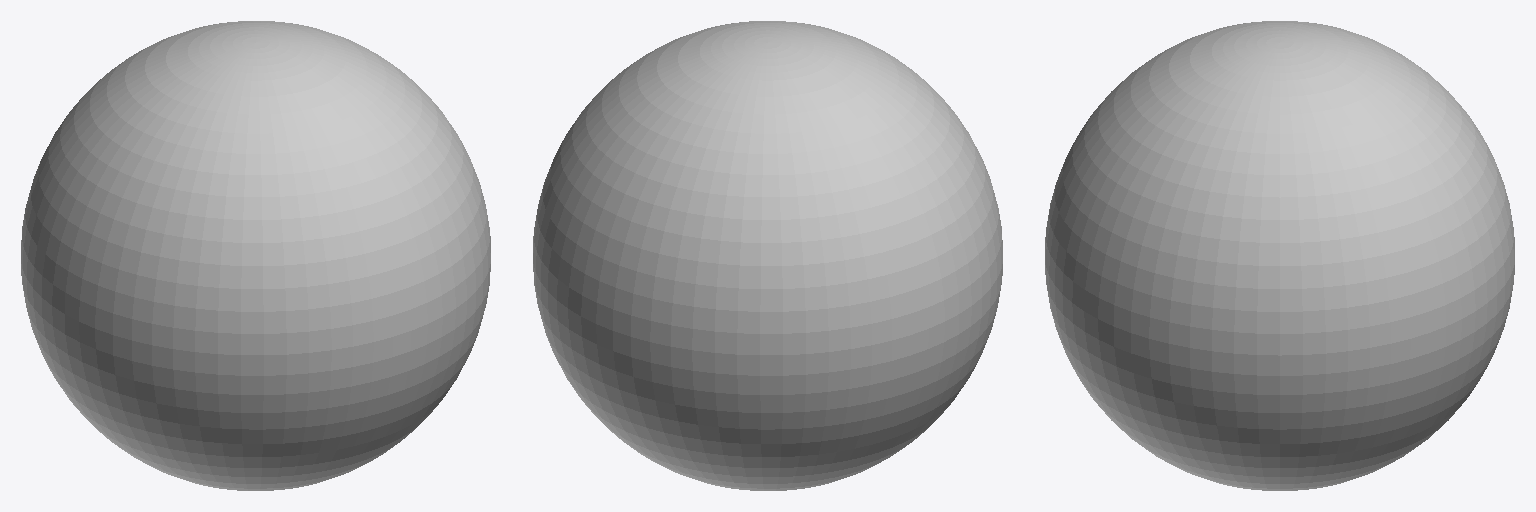
File: Jupiter.obj
3 views of the same model, side by side, from view 1: azimuth 30°, elevation 25°; view 2: azimuth 150°, elevation 25°; view 3: azimuth 270°, elevation 25° (orthographic).
Visible parts, largest first — view 1: Jupiter; view 2: Jupiter; view 3: Jupiter.
Boxes of the visible parts, box(x1,y1,x2,y2) form: Jupiter: box(21, 21, 490, 490); Jupiter: box(533, 21, 1002, 490); Jupiter: box(1045, 21, 1514, 490).
Size of the model in its own units: 135 by 135 by 135.